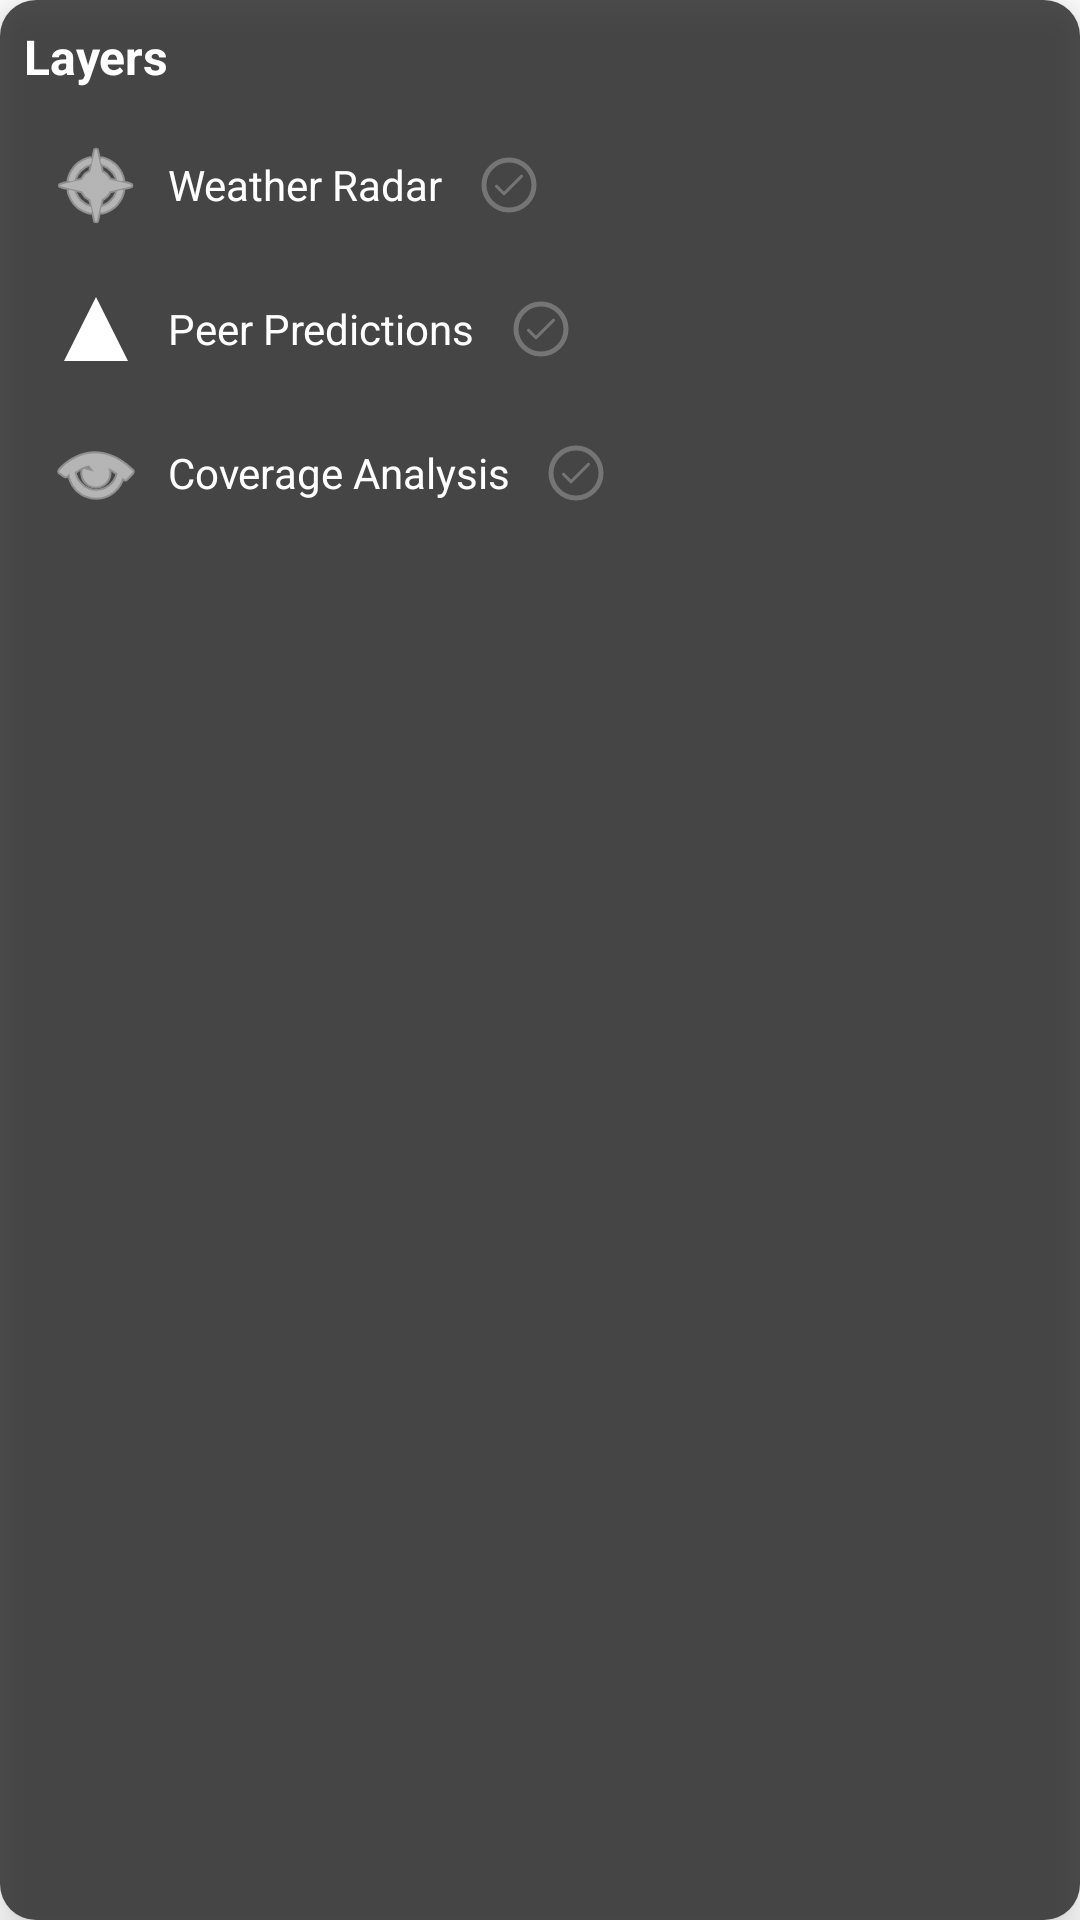

Where icons sit on this 1080w x 1920h app screen, as (x1, y1, x2, y2):
check circle: (482, 158, 536, 212), (514, 302, 568, 356), (549, 446, 603, 500)
compass: (58, 148, 134, 223)
poi triangle: (64, 297, 128, 361)
view: (57, 451, 135, 500)
